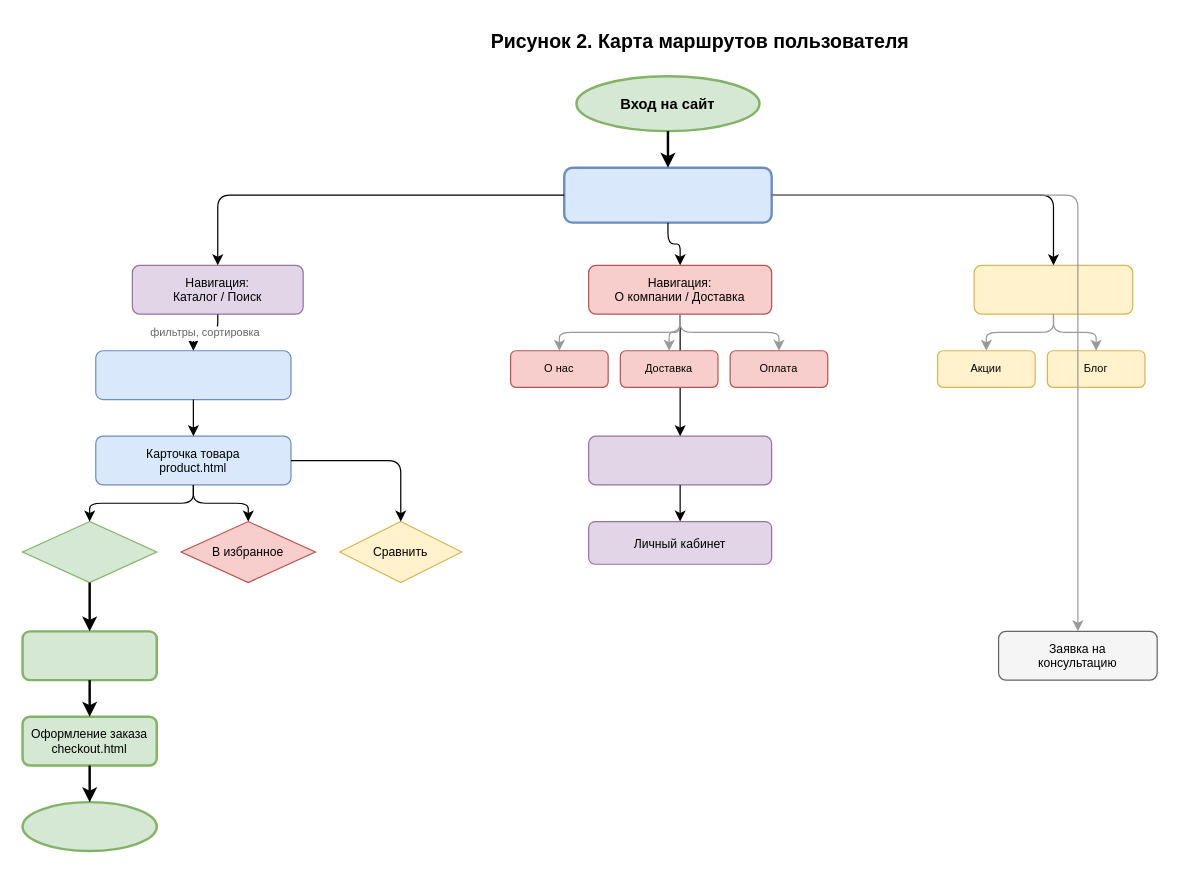
This 1179x872 diagram has some shape labels left out. The centre of each missing label's shape, as x and y in pixels:
В корзину: [89,551]
Главная страница index.html: [667,194]
Заказ оформлен: [89,826]
Корзина cart.html: [89,655]
Навигация: Акции / Блог: [1053,289]
Регистрация / Авторизация: [679,460]
Страница категории kategoriya.html: [193,375]
